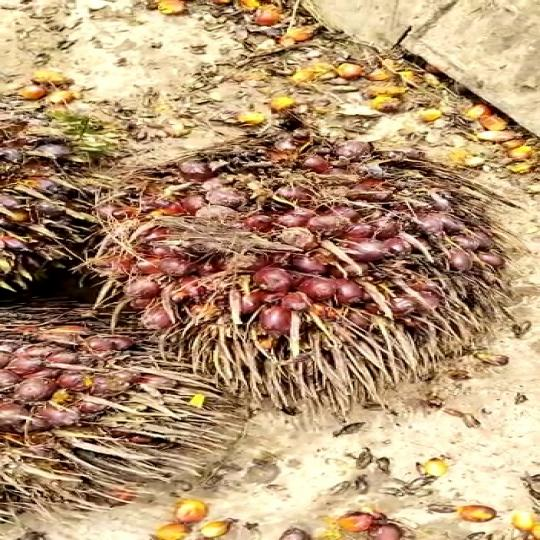masak: (90, 125, 523, 401)
